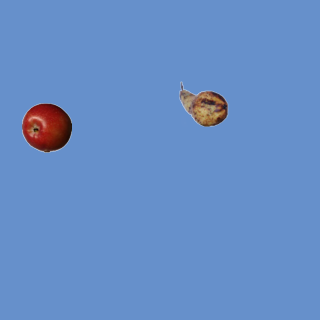Apple Braeburn: (21, 102, 71, 152)
Pear Abate: (178, 79, 228, 129)
